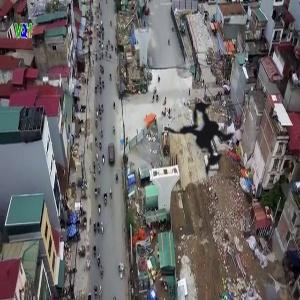drone: (140, 62, 285, 207)
